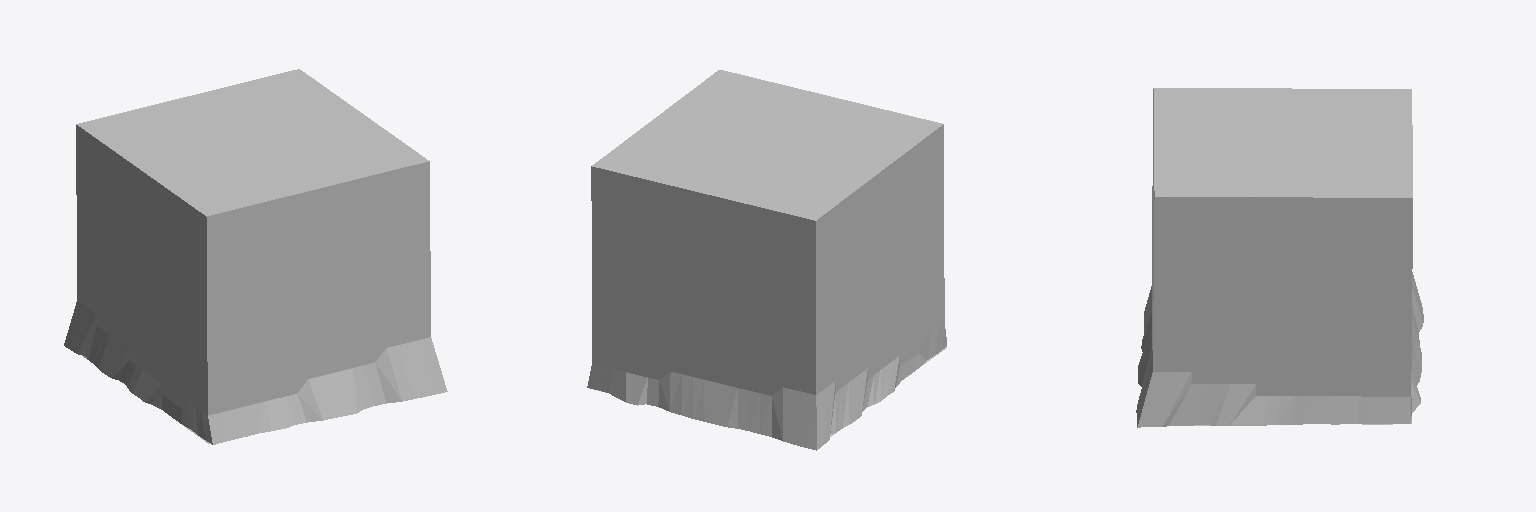
File: mod0121.obj
3 views of the same model, side by side, from view 1: azimuth 30°, elevation 25°; view 2: azimuth 150°, elevation 25°; view 3: azimuth 270°, elevation 25° (orthographic).
Parts seen in each view (by area): view 1: Box001; view 2: Box001; view 3: Box001.
Part boxes in pixels (bbox=[...]): Box001: bbox=[64, 69, 447, 444]; Box001: bbox=[587, 70, 946, 450]; Box001: bbox=[1136, 88, 1423, 427].
Bounding box in the file's own units: 0.5799 × 0.5219 × 0.5979.